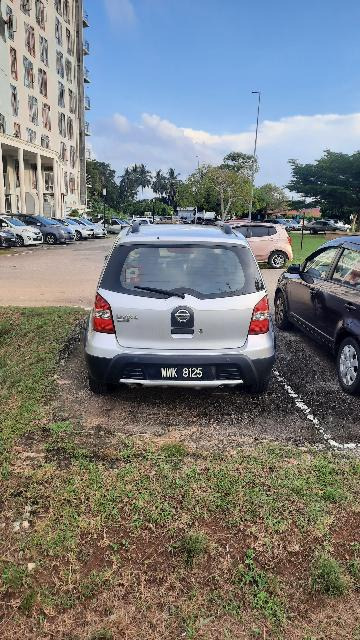License_Plate: (145, 359, 225, 387)
car: (85, 229, 276, 397), (277, 237, 360, 392)
